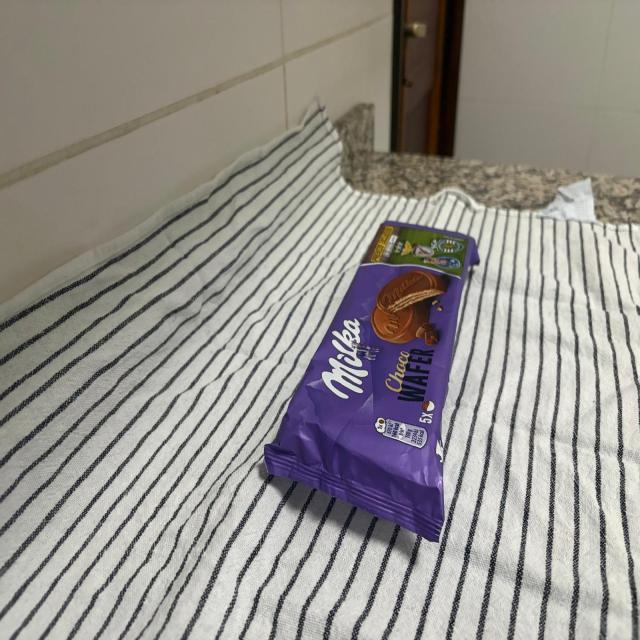good_package: (264, 219, 481, 543)
